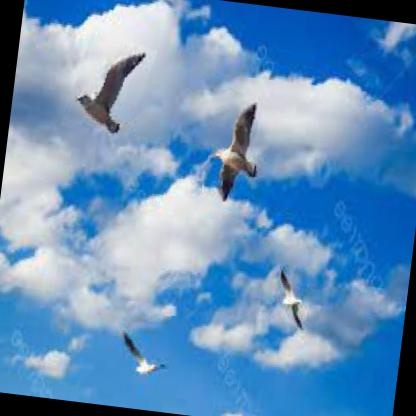bird: (63, 29, 153, 146), (200, 89, 276, 216), (111, 311, 185, 401), (272, 263, 314, 334)
